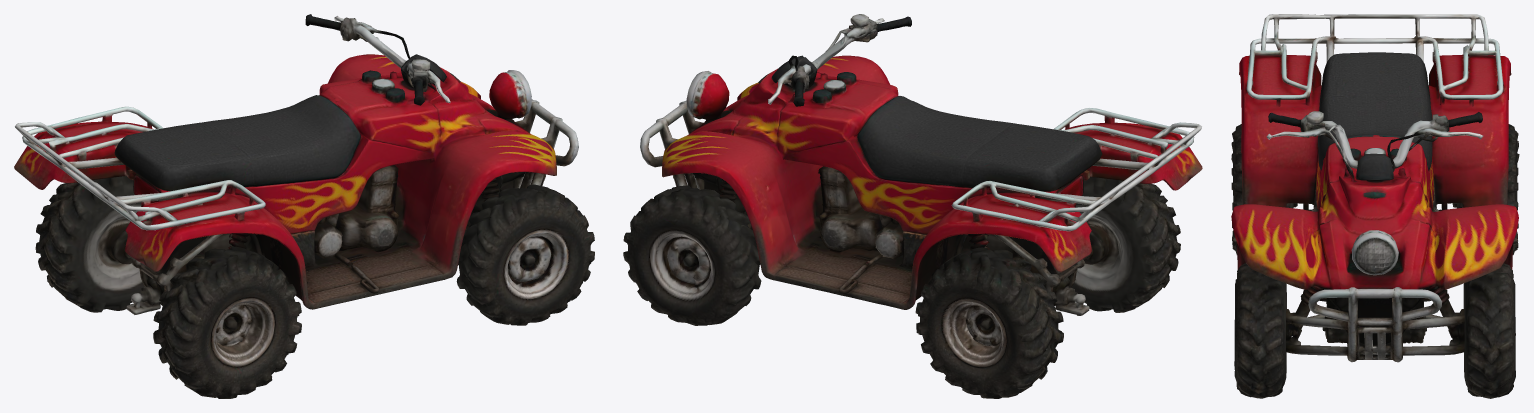
The model's file is flame_quad_tripo_mv_2k.glb.
3 renders of one model, left to right at view 1: azimuth 30°, elevation 25°; view 2: azimuth 150°, elevation 25°; view 3: azimuth 270°, elevation 25°, orthographic. The views are drawn at different scales.
Parts seen in each view (by area): view 1: tripo_node_a1782c93-aa80-42a3-93c4-cdcb9858d2bb; view 2: tripo_node_a1782c93-aa80-42a3-93c4-cdcb9858d2bb; view 3: tripo_node_a1782c93-aa80-42a3-93c4-cdcb9858d2bb.
Part boxes in pixels (x1,y1,x2,y2): tripo_node_a1782c93-aa80-42a3-93c4-cdcb9858d2bb: [14, 14, 594, 398]; tripo_node_a1782c93-aa80-42a3-93c4-cdcb9858d2bb: [623, 14, 1202, 398]; tripo_node_a1782c93-aa80-42a3-93c4-cdcb9858d2bb: [1231, 14, 1519, 398].
Bounding box in the file's own units: 0.9805 × 0.4981 × 0.5386.
1 material, 1 textured.
